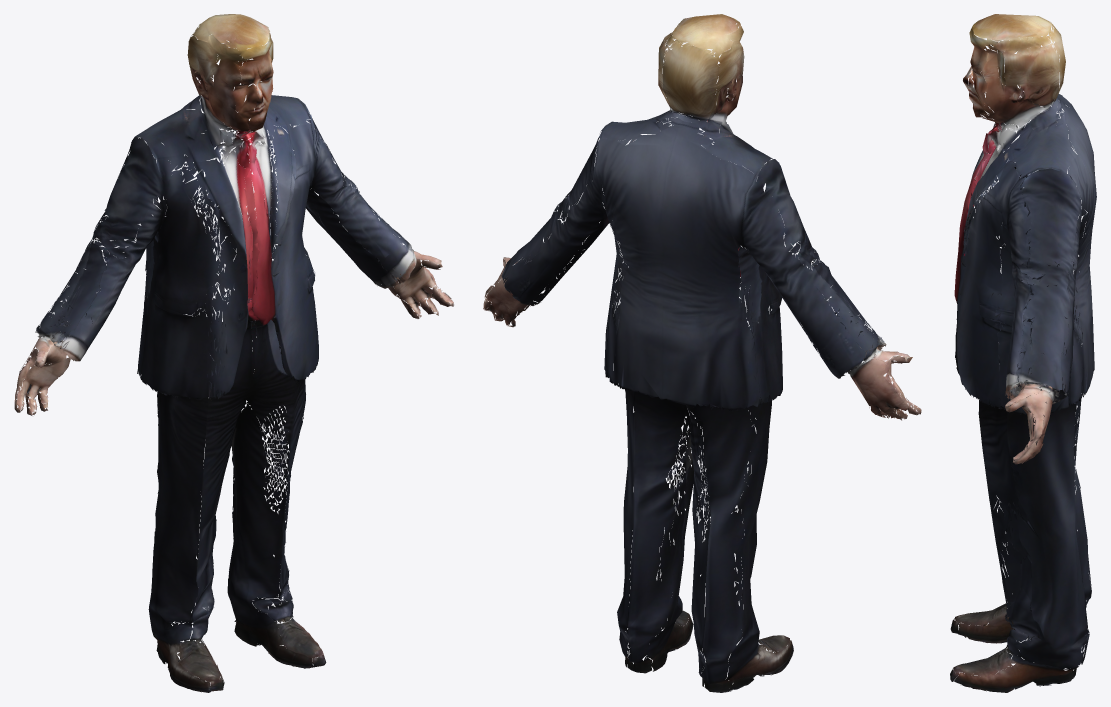
File: player-custom.glb
The picture shows the model from 3 angles, left to right: view 1: azimuth 30°, elevation 25°; view 2: azimuth 150°, elevation 25°; view 3: azimuth 270°, elevation 25°; orthographic projection.
Visible parts, largest first — view 1: Mesh_0; view 2: Mesh_0; view 3: Mesh_0.
Boxes of the visible parts, <box> form: Mesh_0: <box>14,14,453,692</box>; Mesh_0: <box>483,14,921,692</box>; Mesh_0: <box>950,14,1096,692</box>.
Size of the model in its own units: 1.43 by 2 by 0.4152.
1 material, 1 textured.
